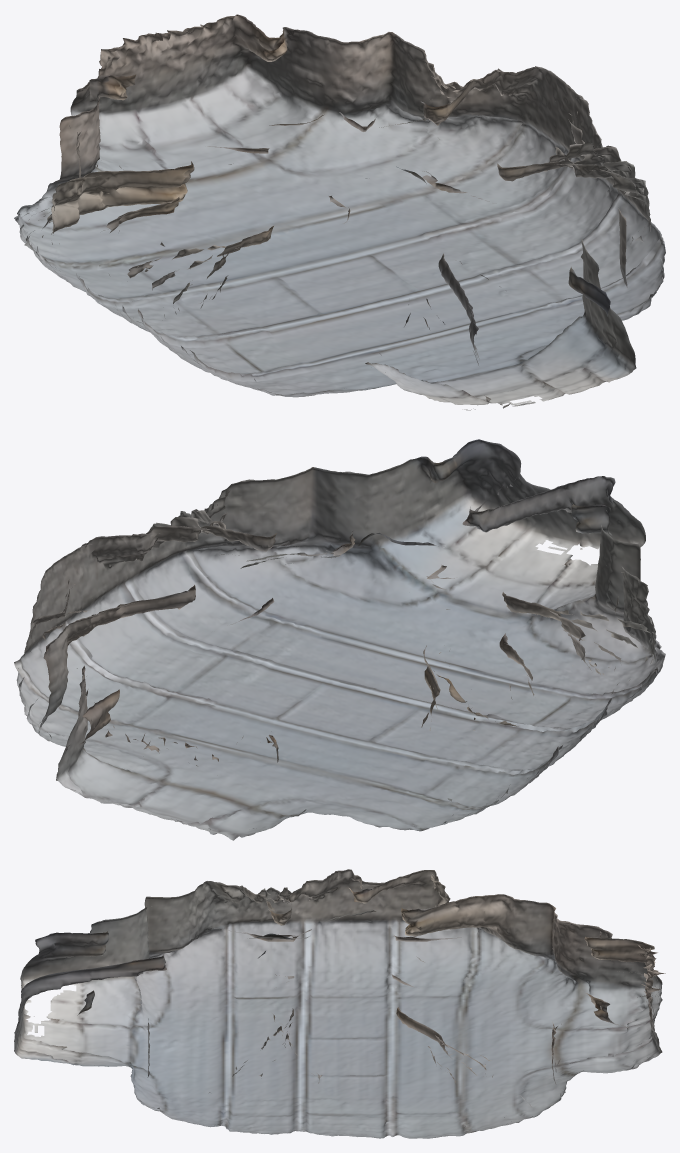
File: world-1769680468480.glb
The picture shows the model from 3 angles, top to bottom: view 1: azimuth 30°, elevation 25°; view 2: azimuth 150°, elevation 25°; view 3: azimuth 270°, elevation 25°; orthographic projection. The views are drawn at different scales.
Parts seen in each view (by area): view 1: world; view 2: world; view 3: world.
Part boxes in pixels (left/top/right/bottom): world: left=14, top=14, right=665, bottom=410; world: left=14, top=439, right=665, bottom=840; world: left=14, top=869, right=665, bottom=1138.
Size of the model in its own units: 12.68 by 3.42 by 17.53.
